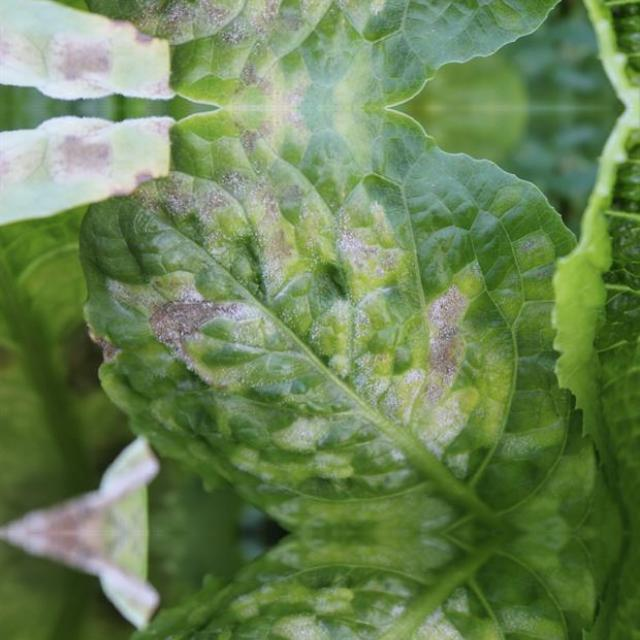Powdery_mildew: (64, 138, 500, 476), (64, 0, 499, 76), (64, 588, 499, 640)
